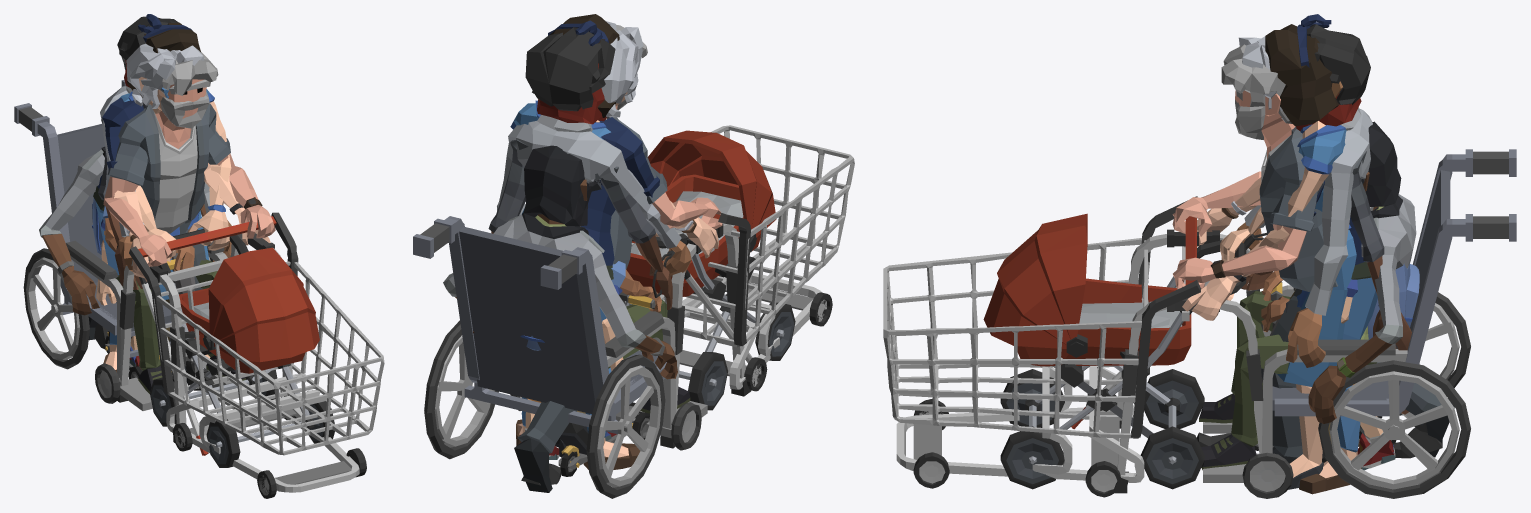
File: human-characters-poses-2.glb
The picture shows the model from 3 angles, left to right: view 1: azimuth 30°, elevation 25°; view 2: azimuth 150°, elevation 25°; view 3: azimuth 270°, elevation 25°; orthographic projection. The views are drawn at different scales.
Parts seen in each view (by area): view 1: Character_16, Character_10, Character_11, Character_12, Character_15, Character_9, Character_13, Character_14; view 2: Character_11, Character_16, Character_10, Character_15, Character_12, Character_9, Character_13, Character_14; view 3: Character_16, Character_10, Character_11, Character_12, Character_15, Character_9, Character_14, Character_13.
Part boxes in pixels (left/top/right/bottom): Character_16: left=88, top=52, right=384, bottom=498; Character_10: left=119, top=14, right=334, bottom=467; Character_11: left=14, top=80, right=245, bottom=410; Character_12: left=93, top=43, right=294, bottom=442; Character_15: left=100, top=16, right=231, bottom=455; Character_9: left=94, top=60, right=219, bottom=390; Character_13: left=103, top=206, right=194, bottom=381; Character_14: left=92, top=198, right=141, bottom=369; Character_11: left=413, top=145, right=707, bottom=498; Character_16: left=514, top=20, right=854, bottom=492; Character_10: left=510, top=14, right=795, bottom=457; Character_15: left=497, top=27, right=752, bottom=454; Character_12: left=516, top=21, right=751, bottom=469; Character_9: left=473, top=63, right=672, bottom=485; Character_13: left=549, top=226, right=661, bottom=476; Character_14: left=520, top=285, right=623, bottom=458; Character_16: left=883, top=44, right=1454, bottom=497; Character_10: left=983, top=14, right=1356, bottom=489; Character_11: left=1199, top=121, right=1516, bottom=498; Character_12: left=1115, top=36, right=1377, bottom=494; Character_15: left=1071, top=24, right=1382, bottom=462; Character_9: left=1196, top=93, right=1442, bottom=458; Character_14: left=1341, top=263, right=1419, bottom=468; Character_13: left=1254, top=207, right=1396, bottom=470.
Bounding box in the file's own units: 0.916 × 1.86 × 2.4.
1 material, 1 textured.
